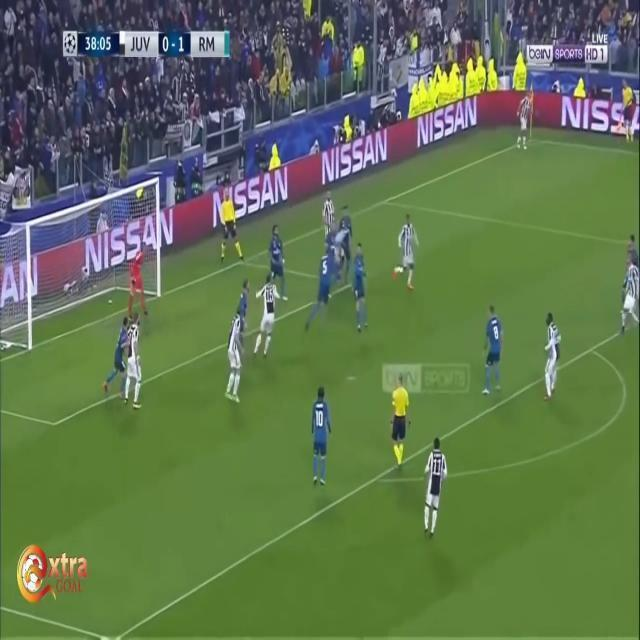goalkeeper: (127, 241, 153, 325)
player: (420, 433, 450, 544), (307, 382, 335, 493), (480, 301, 508, 407), (109, 313, 138, 411), (253, 272, 281, 361), (223, 310, 248, 408), (119, 320, 144, 417), (350, 243, 374, 336), (394, 212, 421, 293), (541, 312, 564, 407), (310, 242, 333, 328), (513, 85, 538, 161), (618, 257, 638, 345), (334, 215, 355, 290), (268, 221, 289, 292), (319, 189, 339, 258), (623, 227, 640, 278)
referee: (389, 373, 415, 479), (216, 185, 242, 271)
